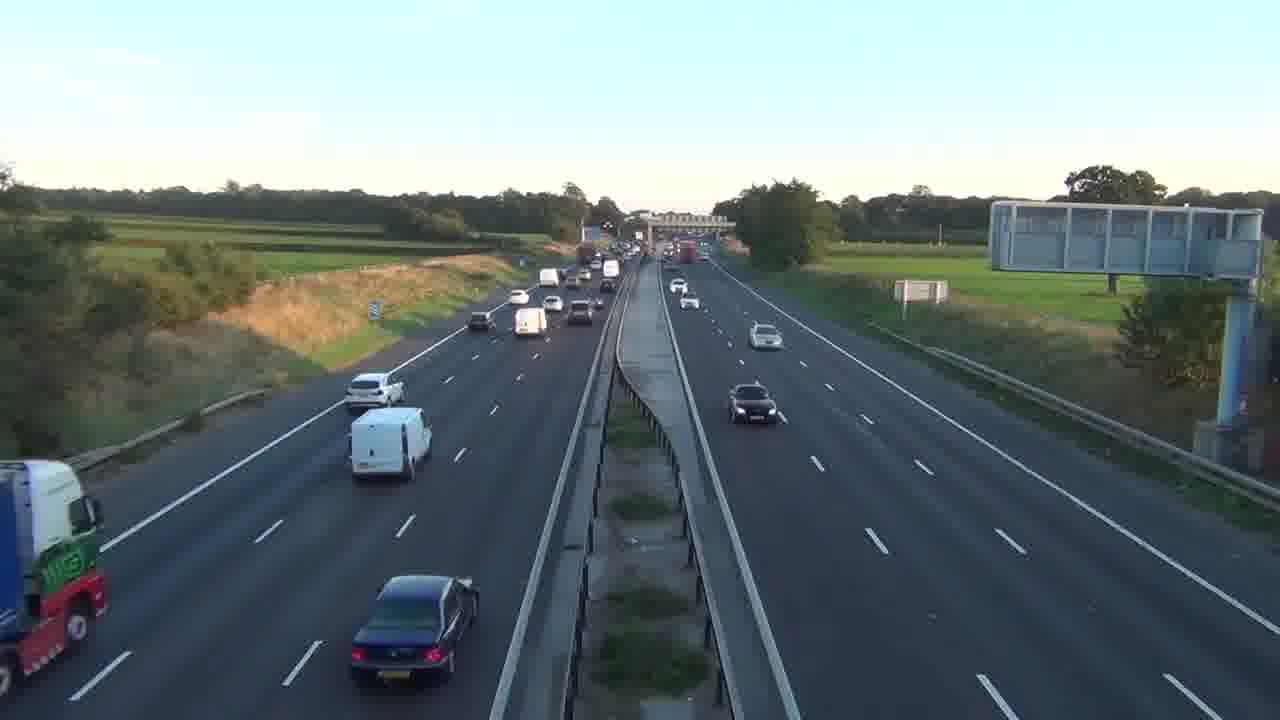car: (349, 573, 480, 691), (727, 382, 778, 424), (749, 322, 784, 350)
truck: (0, 459, 112, 698), (348, 405, 432, 482), (513, 306, 547, 337)
